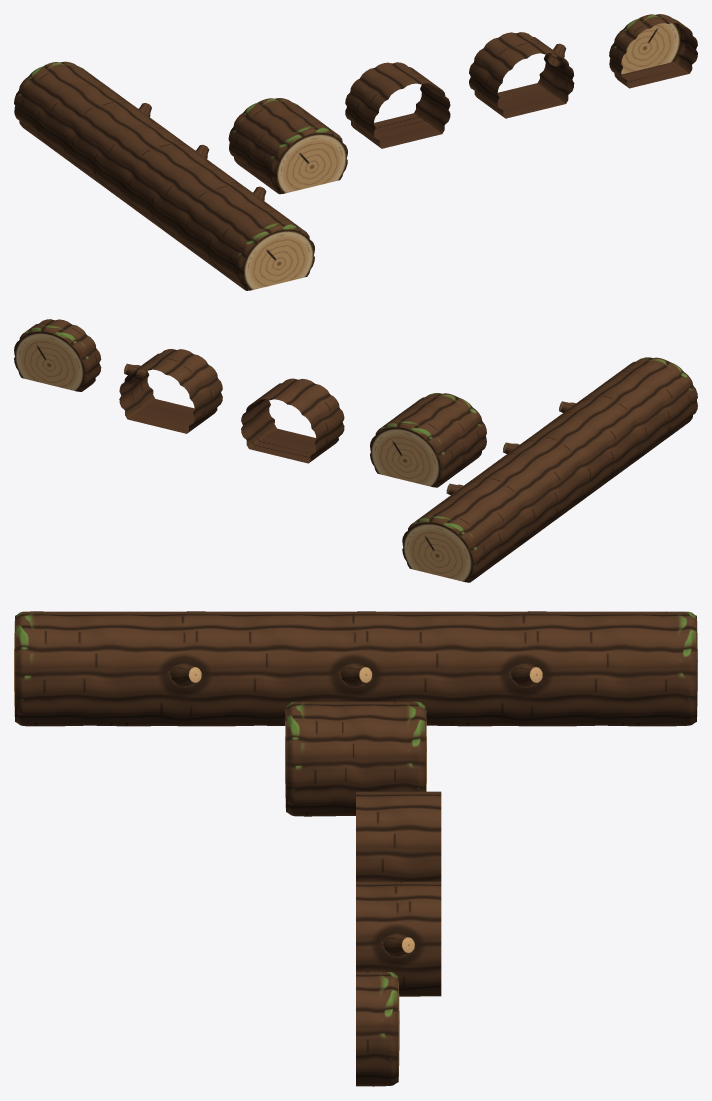
The model's file is log.fbx.
The picture shows the model from 3 angles, top to bottom: view 1: azimuth 30°, elevation 25°; view 2: azimuth 150°, elevation 25°; view 3: azimuth 270°, elevation 25°; orthographic projection. The views are drawn at different scales.
Parts seen in each view (by area): view 1: LogBody_B, LogBody_A, LogCap, SharedLog_CapStart, PlayerLog_CapStart, SharedLog_Body5_B, SharedLog_Body3_B, SharedLog_Body1_B, SharedLog_Body2_A, SharedLog_Body0_A, SharedLog_Body6_A, SharedLog_Body4_A (+3 smaller); view 2: LogBody_B, LogBody_A, SharedLog_CapEnd, LogCap, PlayerLog_CapEnd, SharedLog_Body1_B, SharedLog_Body3_B, SharedLog_Body5_B, SharedLog_Body2_A, SharedLog_Body6_A, SharedLog_Body4_A, SharedLog_Body0_A (+3 smaller); view 3: SharedLog_Body6_A, SharedLog_Body0_A, SharedLog_Body1_B, SharedLog_Body5_B, SharedLog_Body4_A, SharedLog_Body2_A, LogBody_B, SharedLog_Body3_B, LogBody_A, PlayerLog_Body0_A, PlayerLog_CapStart, SharedLog_CapStart (+3 smaller).
Part boxes in pixels (x1=…): LogBody_B: x1=469, y1=32, x2=574, y2=118; LogBody_A: x1=345, y1=62, x2=450, y2=148; LogCap: x1=609, y1=14, x2=697, y2=88; SharedLog_CapStart: x1=226, y1=217, x2=314, y2=290; PlayerLog_CapStart: x1=259, y1=120, x2=347, y2=194; SharedLog_Body5_B: x1=54, y1=91, x2=151, y2=177; SharedLog_Body3_B: x1=112, y1=133, x2=209, y2=218; SharedLog_Body1_B: x1=169, y1=175, x2=266, y2=260; SharedLog_Body2_A: x1=140, y1=154, x2=234, y2=239; SharedLog_Body0_A: x1=197, y1=196, x2=292, y2=281; SharedLog_Body6_A: x1=26, y1=70, x2=120, y2=155; SharedLog_Body4_A: x1=83, y1=112, x2=178, y2=198; LogBody_B: x1=119, y1=349, x2=222, y2=433; LogBody_A: x1=241, y1=378, x2=344, y2=463; SharedLog_CapEnd: x1=402, y1=510, x2=489, y2=582; LogCap: x1=14, y1=319, x2=101, y2=391; PlayerLog_CapEnd: x1=370, y1=414, x2=456, y2=487; SharedLog_Body1_B: x1=559, y1=386, x2=657, y2=470; SharedLog_Body3_B: x1=503, y1=427, x2=601, y2=511; SharedLog_Body5_B: x1=446, y1=468, x2=545, y2=553; SharedLog_Body2_A: x1=537, y1=407, x2=629, y2=491; SharedLog_Body6_A: x1=425, y1=489, x2=517, y2=573; SharedLog_Body4_A: x1=481, y1=448, x2=573, y2=532; SharedLog_Body0_A: x1=593, y1=366, x2=685, y2=450; SharedLog_Body6_A: x1=569, y1=611, x2=654, y2=726; SharedLog_Body0_A: x1=57, y1=611, x2=142, y2=726; SharedLog_Body1_B: x1=143, y1=611, x2=227, y2=726; SharedLog_Body5_B: x1=484, y1=611, x2=568, y2=726; SharedLog_Body4_A: x1=398, y1=611, x2=483, y2=726; SharedLog_Body2_A: x1=228, y1=611, x2=313, y2=726; LogBody_B: x1=356, y1=881, x2=441, y2=996; SharedLog_Body3_B: x1=313, y1=611, x2=398, y2=701; LogBody_A: x1=356, y1=791, x2=441, y2=881; PlayerLog_Body0_A: x1=328, y1=701, x2=383, y2=816; PlayerLog_CapStart: x1=285, y1=701, x2=328, y2=816; SharedLog_CapStart: x1=14, y1=611, x2=57, y2=726.
Bounding box in the file's own units: 11.56 × 1.11 × 8.02.
1 material, 1 textured.
